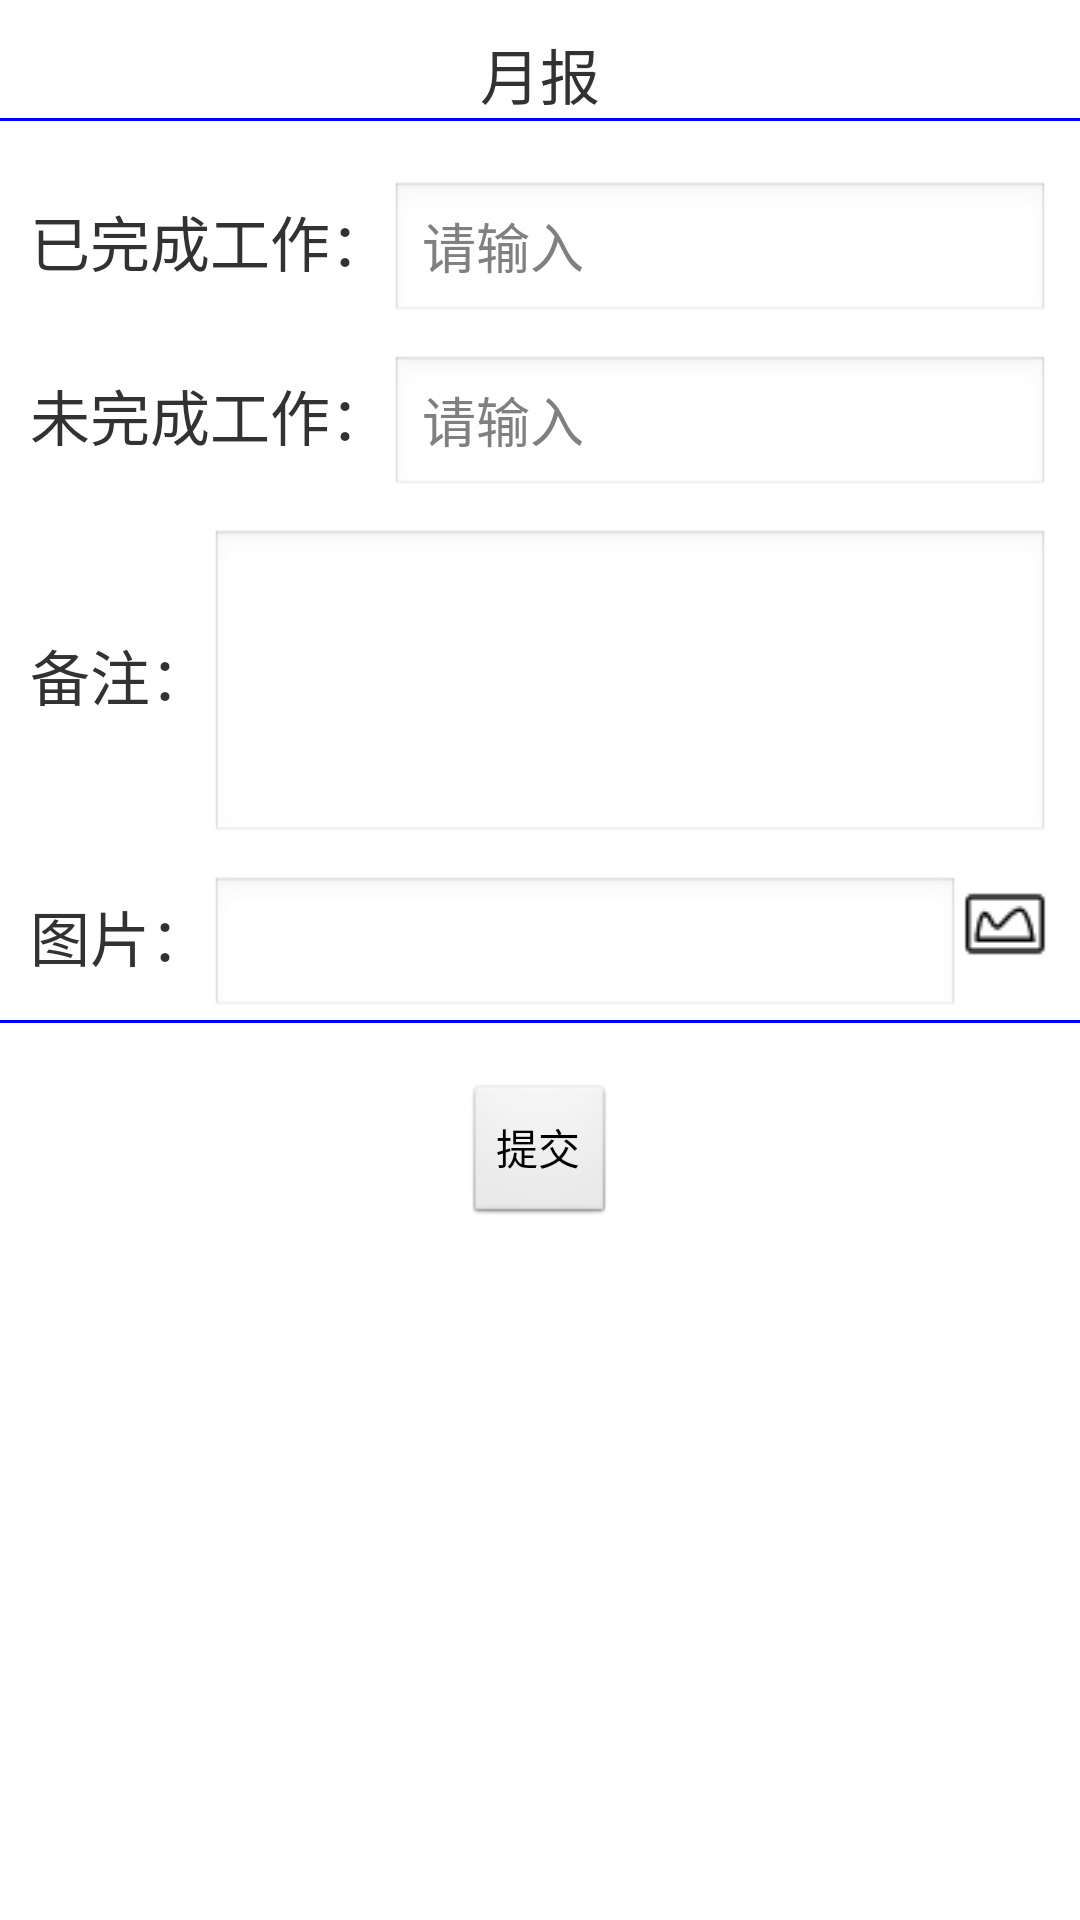

Icons on this 1080x1920 Android screen, each with its box as (x1, y1, x2, y2):
pic select: (964, 893, 1046, 955)
